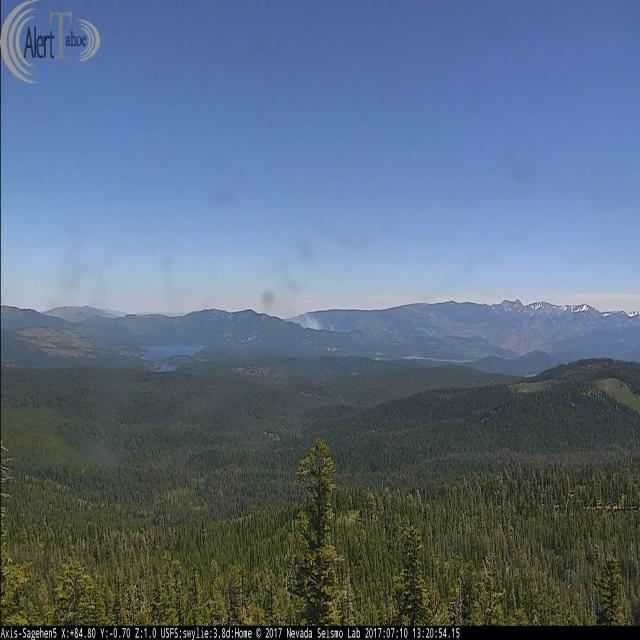smoke: (296, 314, 321, 333)
